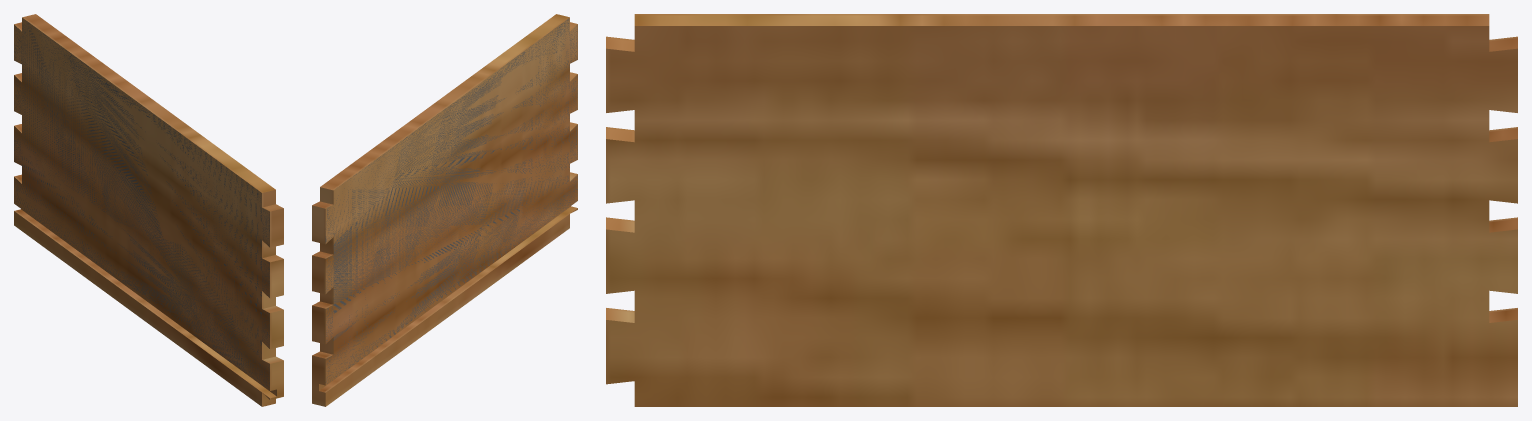
Rendered from original-1122.obj.
The picture shows the model from 3 angles, left to right: view 1: azimuth 30°, elevation 25°; view 2: azimuth 150°, elevation 25°; view 3: azimuth 270°, elevation 25°; orthographic projection. The views are drawn at different scales.
Parts seen in each view (by area): view 1: draw_side1/draw_side/mesh305/mesh305-geometry#mesh305-geometry; view 2: draw_side1/draw_side/mesh305/mesh305-geometry#mesh305-geometry; view 3: draw_side1/draw_side/mesh305/mesh305-geometry#mesh305-geometry.
Boxes of the visible parts, x1,y1,x2,y2 form: draw_side1/draw_side/mesh305/mesh305-geometry#mesh305-geometry: [14, 14, 283, 406]; draw_side1/draw_side/mesh305/mesh305-geometry#mesh305-geometry: [312, 14, 577, 406]; draw_side1/draw_side/mesh305/mesh305-geometry#mesh305-geometry: [606, 14, 1517, 406].
Size of the model in its own units: 0.0142 by 0.2098 by 0.4552.
